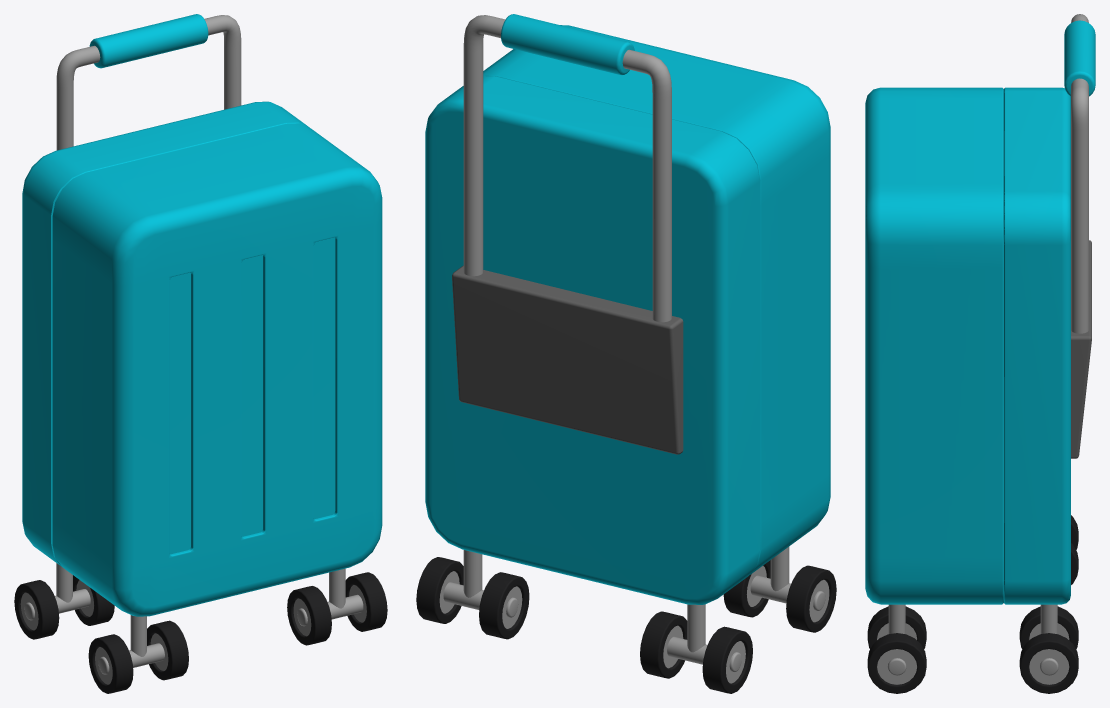
Rendered from Public_7_Suitcase_2.glb.
The picture shows the model from 3 angles, left to right: view 1: azimuth 30°, elevation 25°; view 2: azimuth 150°, elevation 25°; view 3: azimuth 270°, elevation 25°; orthographic projection. The views are drawn at different scales.
Parts seen in each view (by area): view 1: Public_7_Suitcase_2; view 2: Public_7_Suitcase_2; view 3: Public_7_Suitcase_2.
Part boxes in pixels (x1,y1,x2,y2): Public_7_Suitcase_2: (14, 14, 387, 693); Public_7_Suitcase_2: (416, 14, 836, 693); Public_7_Suitcase_2: (865, 14, 1095, 693).
Size of the model in its own units: 0.8969 by 1.79 by 0.643.
1 material, 1 textured.
